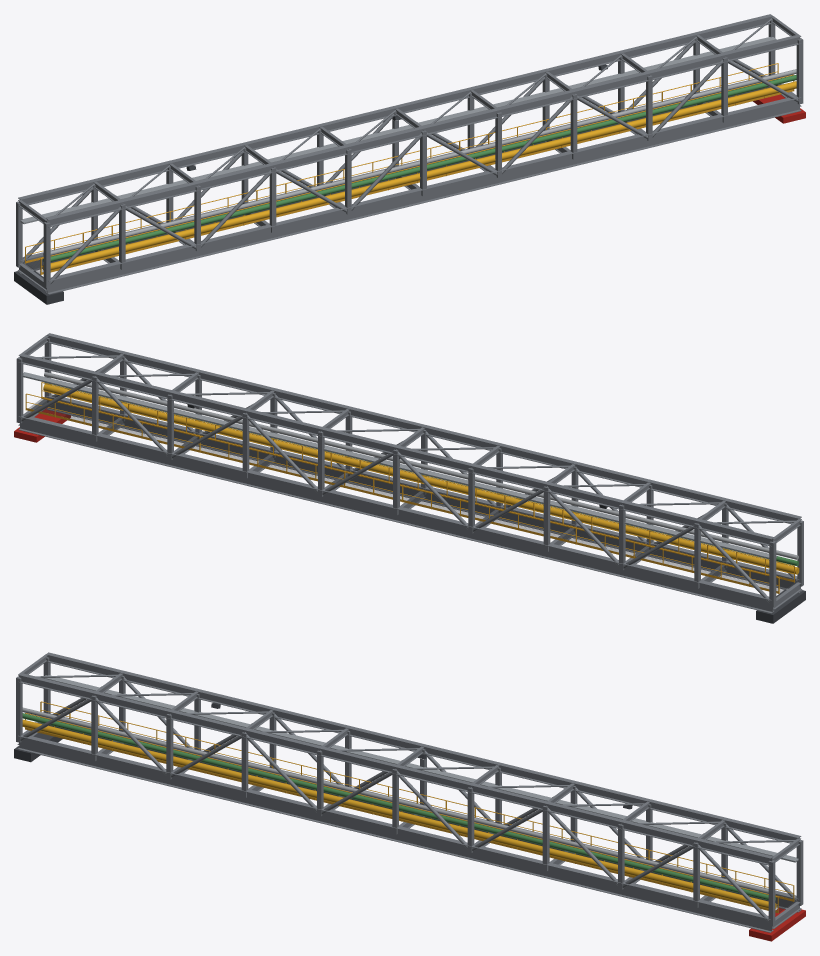
Rendered from bridge.glb.
3 renders of one model, top to bottom at view 1: azimuth 30°, elevation 25°; view 2: azimuth 150°, elevation 25°; view 3: azimuth 330°, elevation 25°, orthographic.
Parts seen in each view (by area): view 1: bridge_static; view 2: bridge_static; view 3: bridge_static.
Part boxes in pixels (x1,y1,x2,y2): bridge_static: (14, 14, 805, 304); bridge_static: (14, 333, 805, 623); bridge_static: (14, 652, 805, 941).
Size of the model in its own units: 53.4 by 5.6 by 4.2.
Materials: 10 (1 with a texture image).
